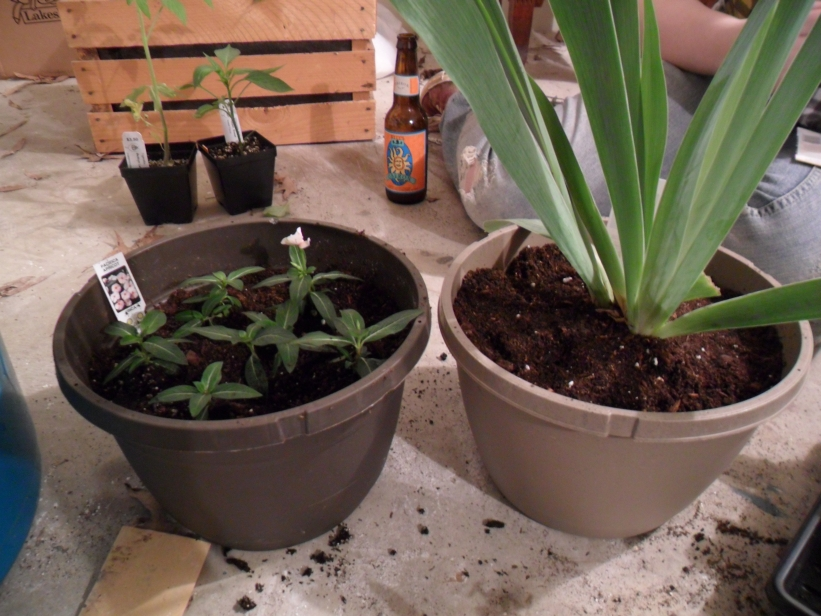potted plant: (449, 169, 808, 550), (47, 213, 434, 550)
